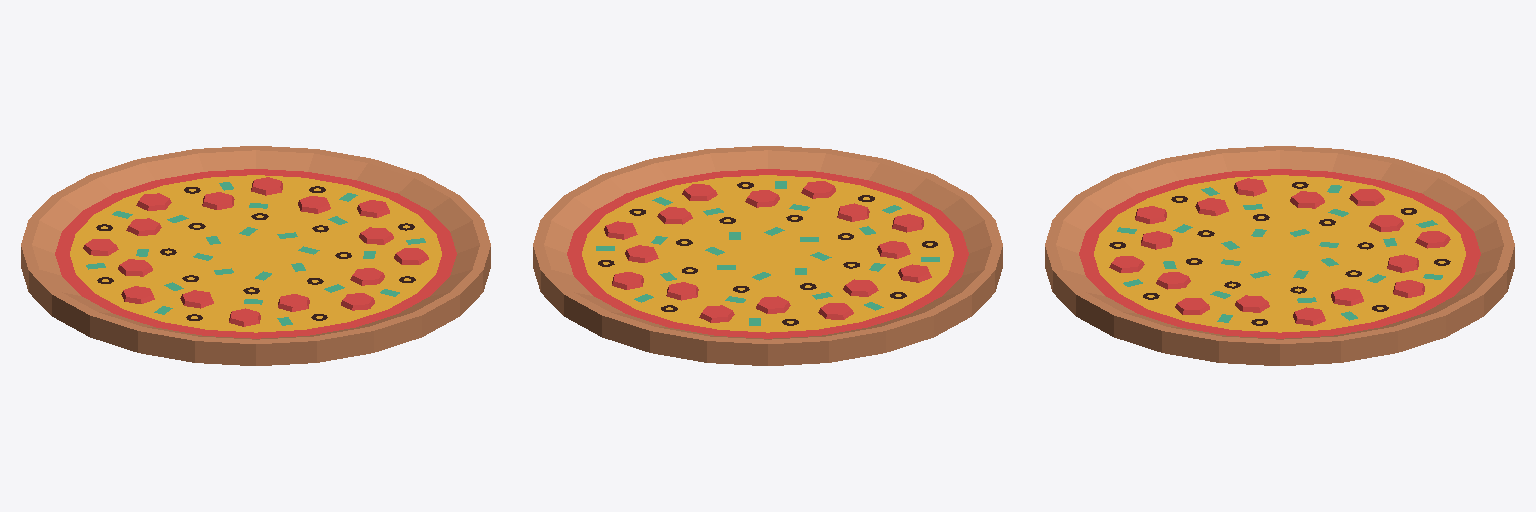
File: pizza.obj
3 views of the same model, side by side, from view 1: azimuth 30°, elevation 25°; view 2: azimuth 150°, elevation 25°; view 3: azimuth 270°, elevation 25° (orthographic).
Parts seen in each view (by area): view 1: slice2, slice3, slice1, slice6, slice7, slice5, slice4, slice0; view 2: slice5, slice4, slice6, slice1, slice0, slice2, slice3, slice7; view 3: slice0, slice7, slice3, slice4, slice1, slice6, slice2, slice5.
Boxes of the visible parts, x1,y1,x2,y2 form: slice2: [195, 254, 373, 365]; slice3: [52, 254, 255, 362]; slice1: [257, 254, 482, 352]; slice6: [139, 146, 316, 252]; slice7: [256, 149, 458, 253]; slice5: [30, 159, 255, 253]; slice4: [21, 219, 252, 315]; slice0: [257, 195, 490, 291]; slice5: [650, 254, 828, 365]; slice4: [768, 254, 971, 362]; slice6: [541, 254, 766, 352]; slice1: [707, 146, 884, 252]; slice0: [565, 149, 767, 253]; slice2: [768, 159, 993, 253]; slice3: [771, 219, 1002, 315]; slice7: [533, 195, 766, 291]; slice0: [1114, 254, 1279, 365]; slice7: [1280, 254, 1445, 365]; slice3: [1114, 146, 1279, 253]; slice4: [1280, 146, 1445, 253]; slice1: [1045, 245, 1277, 336]; slice6: [1282, 245, 1514, 336]; slice2: [1045, 175, 1278, 253]; slice5: [1281, 175, 1514, 253].
Bounding box in the file's own units: 0.8418 × 0.0435 × 0.8418.